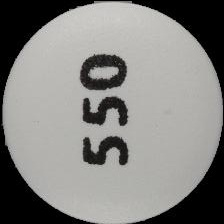43063-566: (0, 0, 224, 224)
